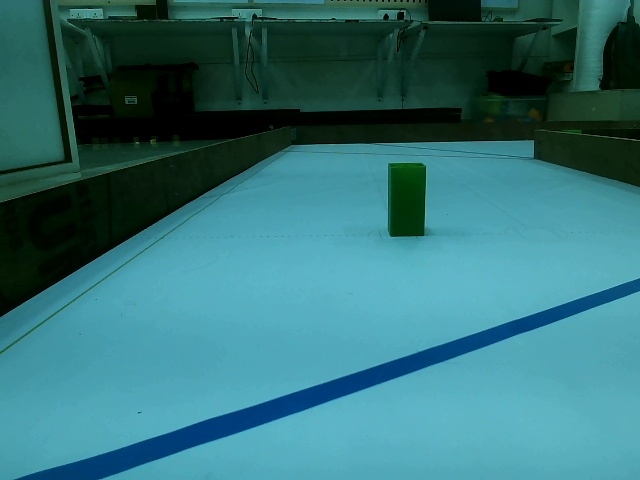green: (387, 164, 425, 237)
